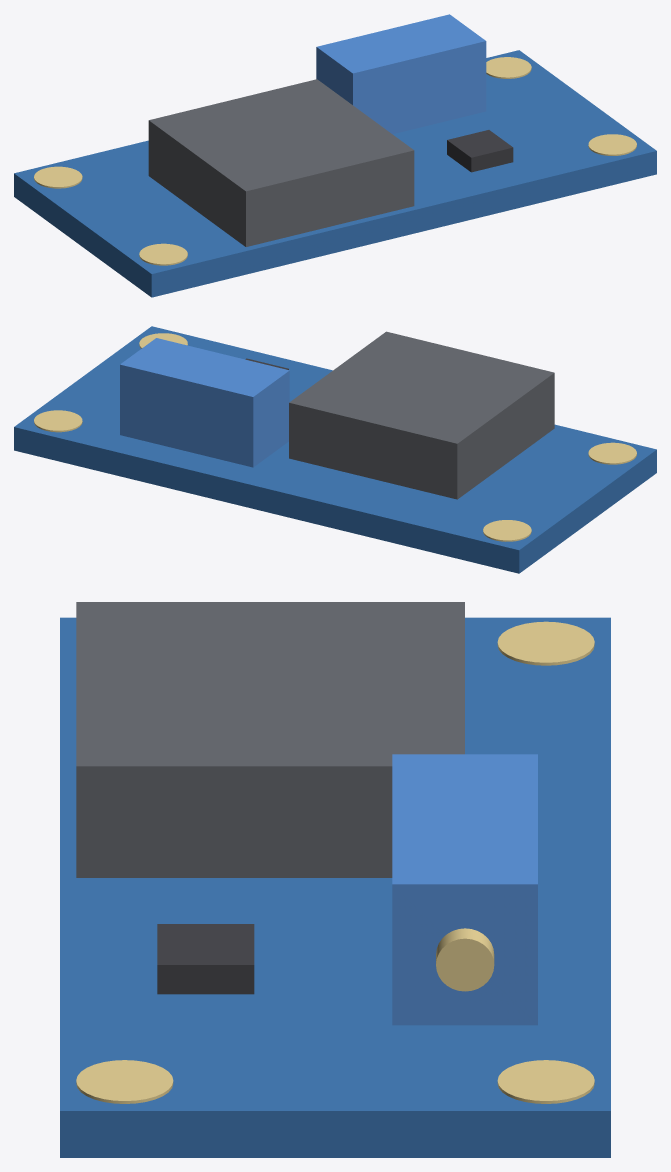
File: boost-converter.glb
3 renders of one model, top to bottom at view 1: azimuth 30°, elevation 25°; view 2: azimuth 150°, elevation 25°; view 3: azimuth 270°, elevation 25°, orthographic. The views are drawn at different scales.
Parts seen in each view (by area): view 1: pcb, inductor, trimmer, pads, regulator; view 2: pcb, inductor, trimmer, pads; view 3: pcb, inductor, trimmer, pads, regulator.
Boxes of the visible parts, x1,y1,x2,y2 form: pcb: [14, 50, 656, 297]; inductor: [148, 79, 414, 246]; trimmer: [316, 14, 486, 134]; pads: [34, 57, 636, 265]; regulator: [447, 130, 513, 172]; pcb: [14, 326, 656, 573]; inductor: [289, 331, 554, 499]; trimmer: [120, 338, 289, 467]; pads: [34, 333, 636, 541]; pcb: [60, 617, 610, 1157]; inductor: [76, 602, 464, 877]; trimmer: [392, 754, 537, 1025]; pads: [76, 621, 594, 1103]; regulator: [157, 924, 254, 994].
Bounding box in the file's own units: 0.036 × 0.0064 × 0.017.
